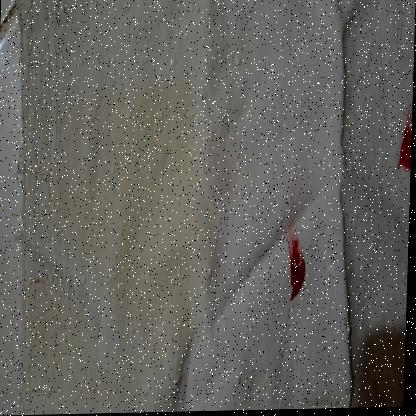spot: (284, 165, 307, 255), (392, 107, 413, 184), (286, 243, 311, 306)
